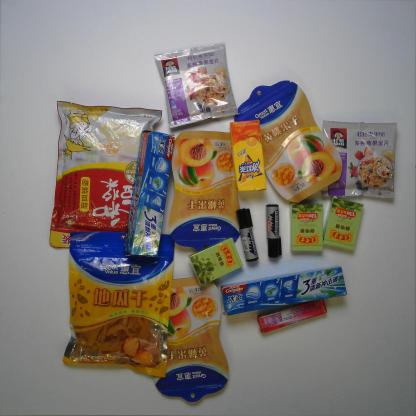Candy: (188, 237, 244, 286), (257, 296, 328, 333), (323, 197, 364, 252), (288, 203, 324, 251)
Dried Fruit: (62, 230, 176, 378), (234, 80, 343, 204), (151, 277, 229, 403), (171, 131, 243, 253)
Drink: (229, 119, 268, 192)
Instant Drink: (49, 100, 164, 249), (154, 42, 240, 129), (322, 120, 398, 199)
Personal Hygiene: (220, 264, 348, 316), (124, 130, 173, 258)
Stationery: (236, 207, 258, 262), (265, 203, 282, 258)
